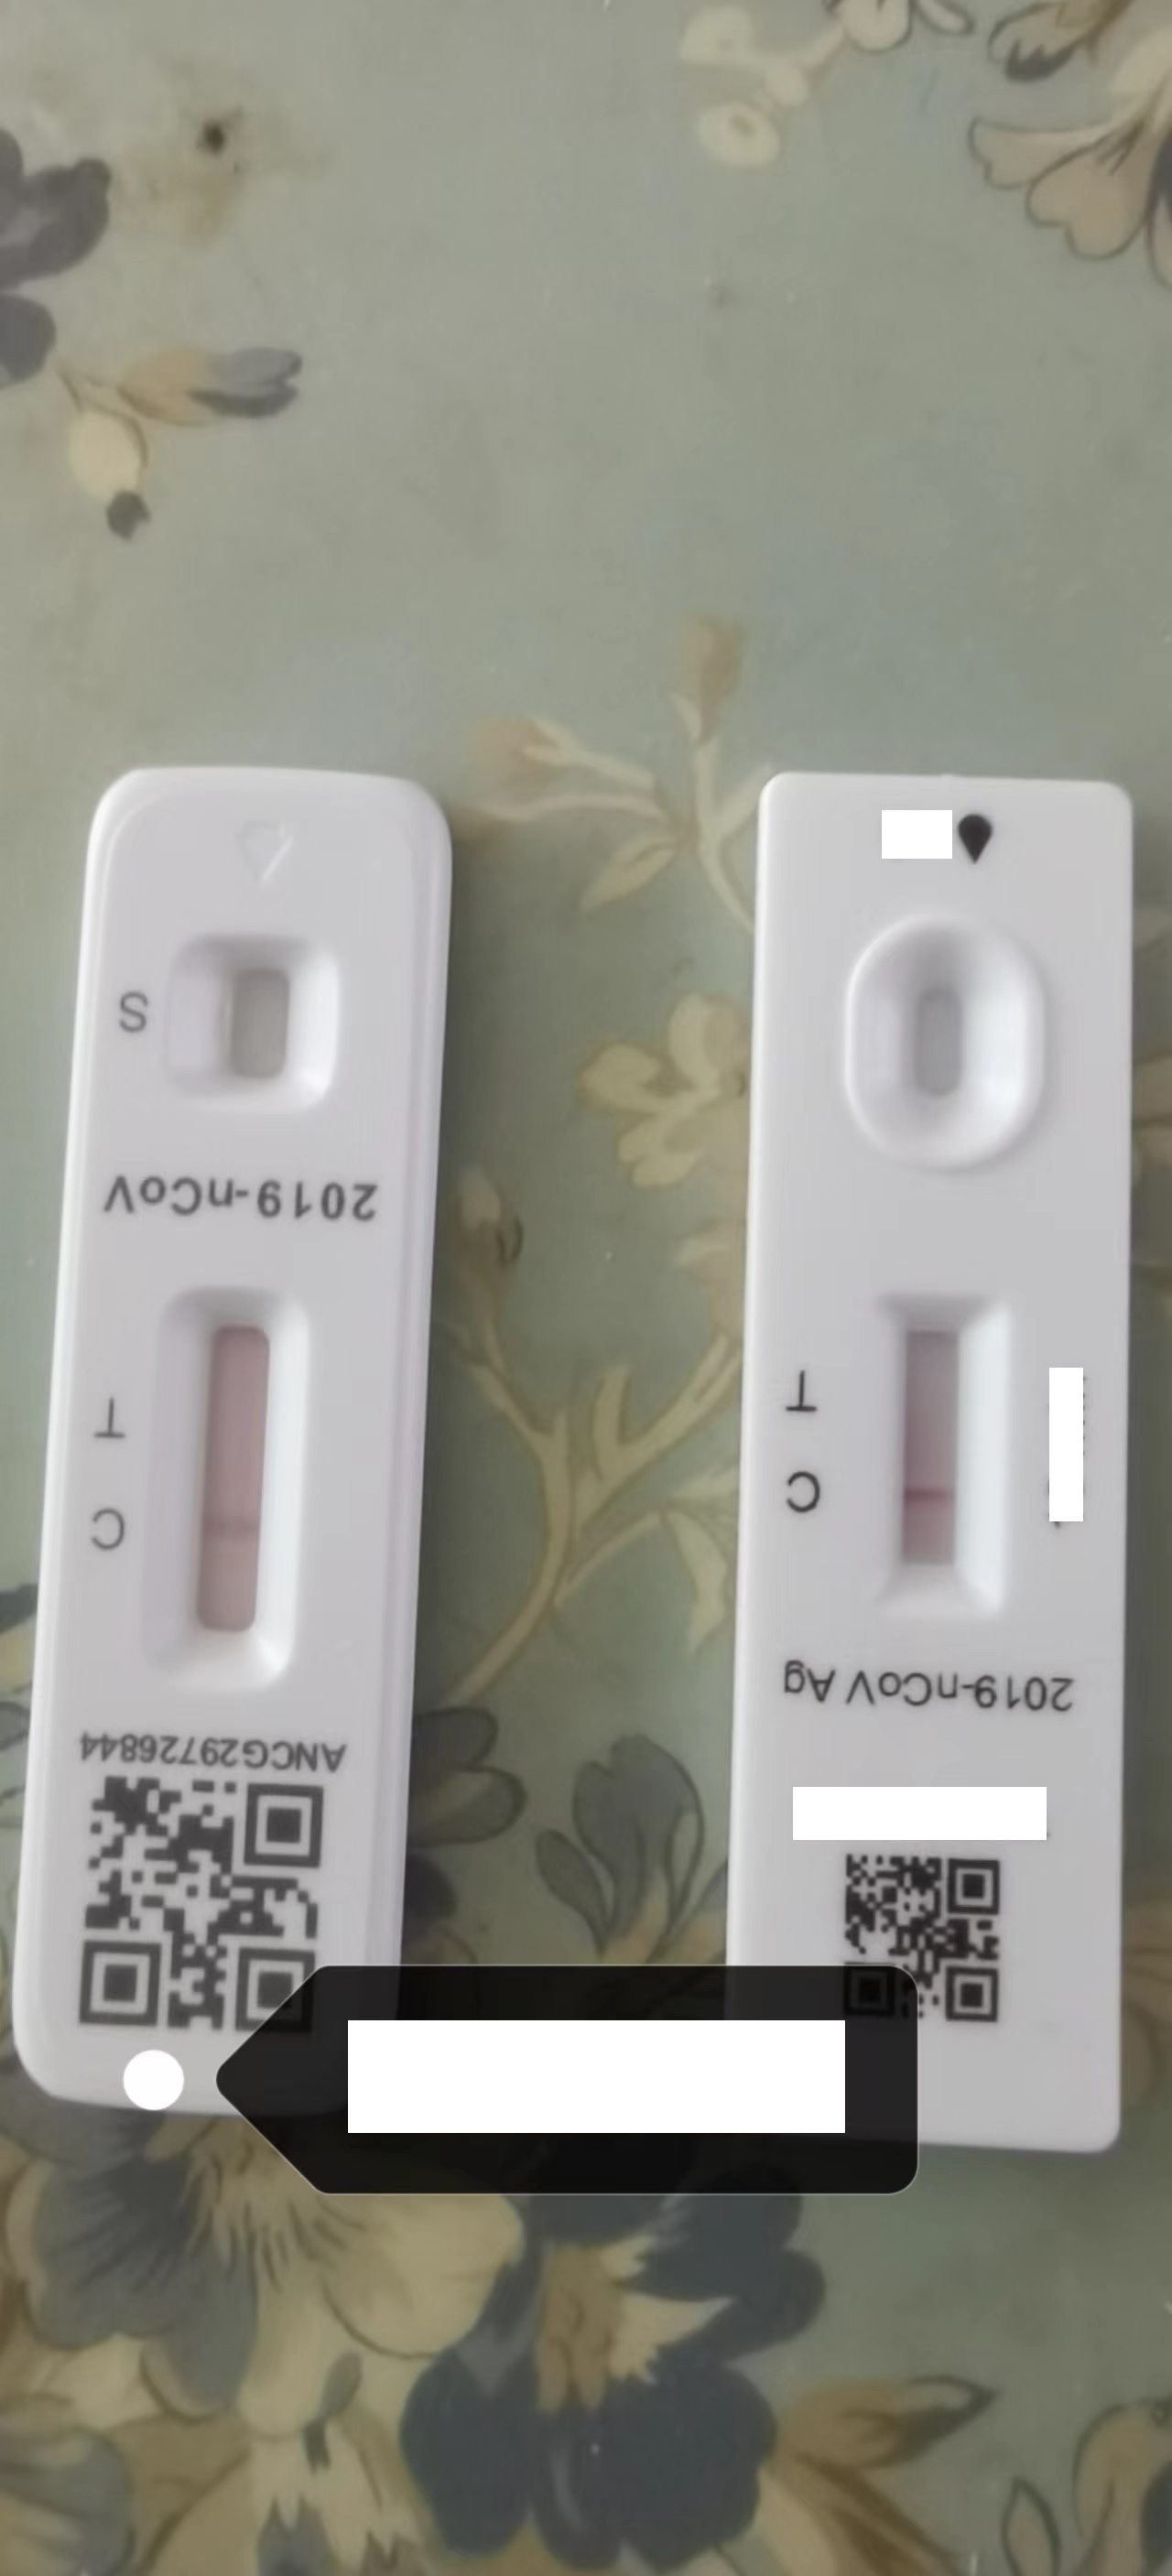negative: (151, 1281, 296, 1690), (871, 1290, 1001, 1621)
